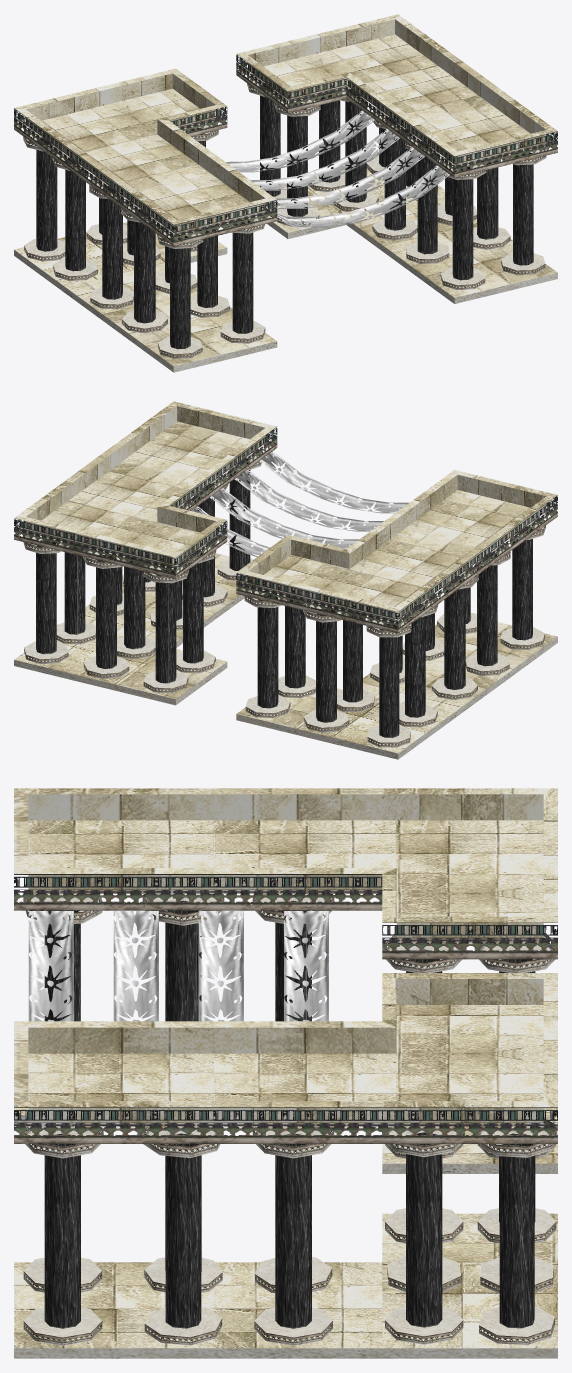
File: kart_market.dae
3 views of the same model, one above another, from view 1: azimuth 30°, elevation 25°; view 2: azimuth 150°, elevation 25°; view 3: azimuth 270°, elevation 25° (orthographic). The views are drawn at different scales.
Parts seen in each view (by area): view 1: Plane01; view 2: Plane01; view 3: Plane01.
Boxes of the visible parts, x1,y1,x2,y2 form: Plane01: (14, 14, 557, 372); Plane01: (14, 401, 557, 759); Plane01: (14, 788, 557, 1358).
Bounding box in the file's own units: 26.32 × 18.94 × 9.66.
